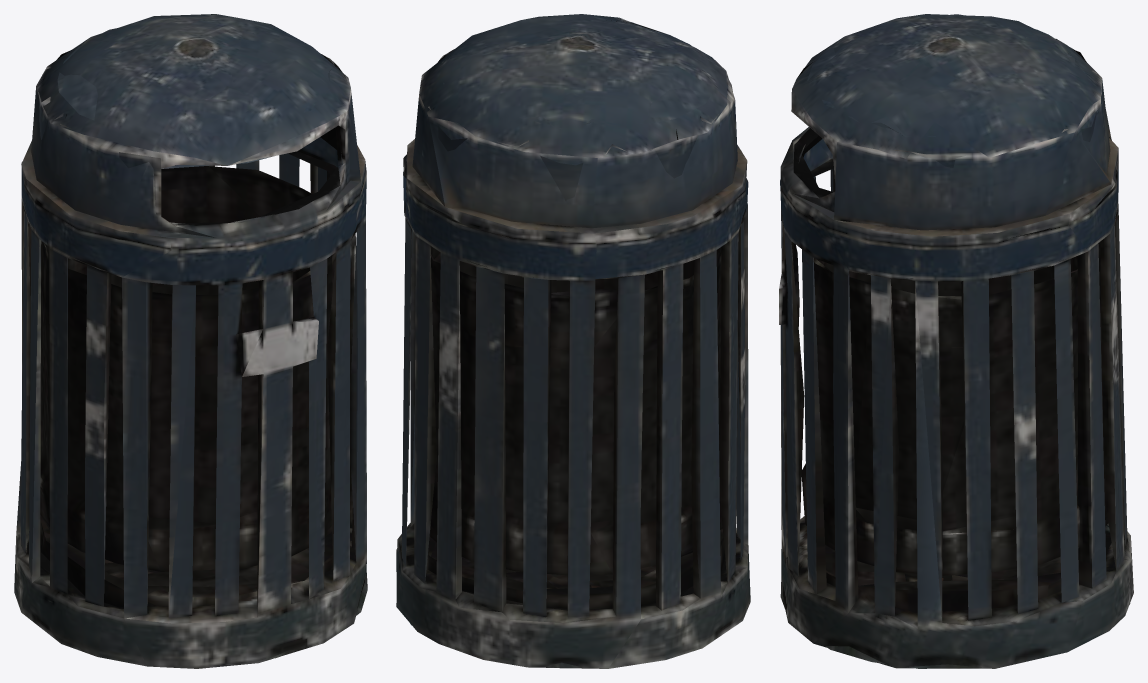
File: trash-can.glb
The picture shows the model from 3 angles, left to right: view 1: azimuth 30°, elevation 25°; view 2: azimuth 150°, elevation 25°; view 3: azimuth 270°, elevation 25°; orthographic projection.
Parts seen in each view (by area): view 1: trashCan; view 2: trashCan; view 3: trashCan.
Part boxes in pixels (x1,y1,x2,y2): trashCan: (14, 14, 367, 668); trashCan: (396, 14, 750, 668); trashCan: (779, 14, 1133, 668).
Size of the model in its own units: 0.55 by 0.95 by 0.55.
1 material, 1 textured.
